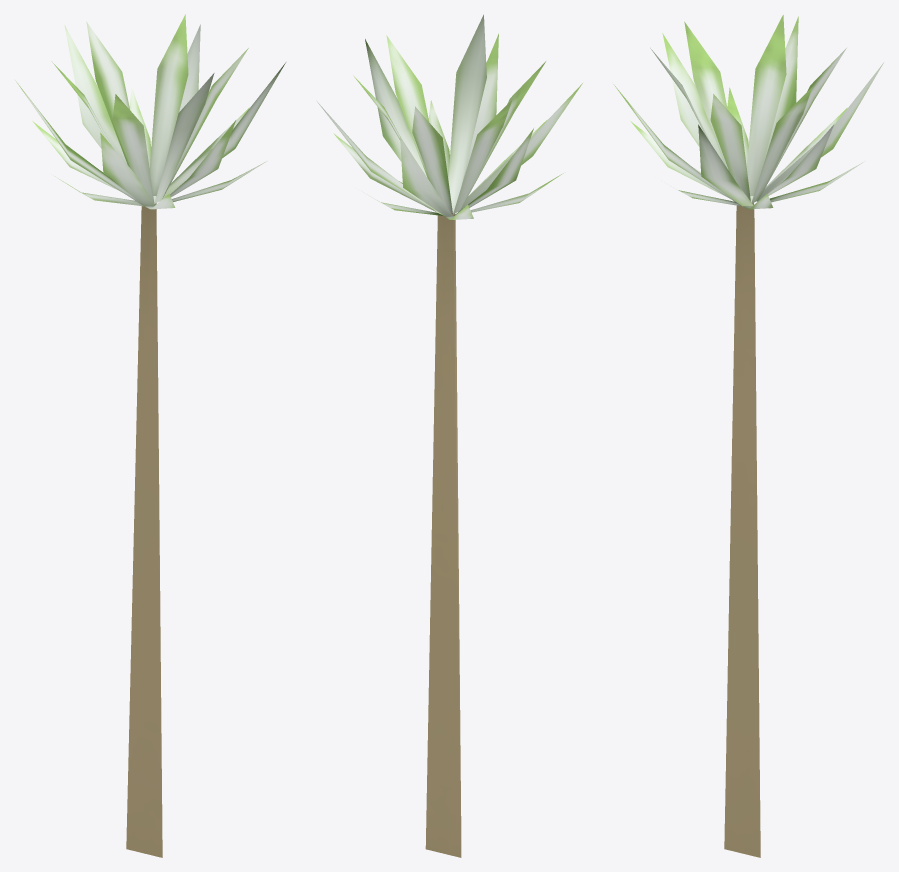
The picture shows the model from 3 angles, left to right: view 1: azimuth 30°, elevation 25°; view 2: azimuth 150°, elevation 25°; view 3: azimuth 270°, elevation 25°; orthographic projection.
Parts seen in each view (by area): view 1: wLODPalm2; view 2: wLODPalm2; view 3: wLODPalm2.
Part boxes in pixels (left/top/right/bottom): wLODPalm2: left=15, top=14, right=285, bottom=857; wLODPalm2: left=317, top=14, right=582, bottom=857; wLODPalm2: left=613, top=15, right=883, bottom=857.
Bounding box in the file's own units: 5.83 × 20.26 × 6.19.
Materials: 1 (1 with a texture image).
